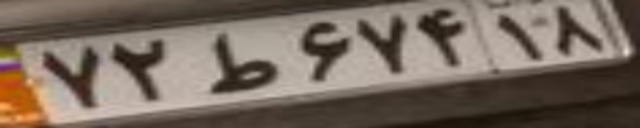1: (495, 14, 541, 59)
2: (108, 37, 166, 100)
4: (415, 8, 463, 67)
6: (299, 19, 349, 81)
7: (39, 43, 103, 108), (352, 11, 409, 75)
8: (551, 5, 605, 55)
taa: (205, 31, 279, 93)
